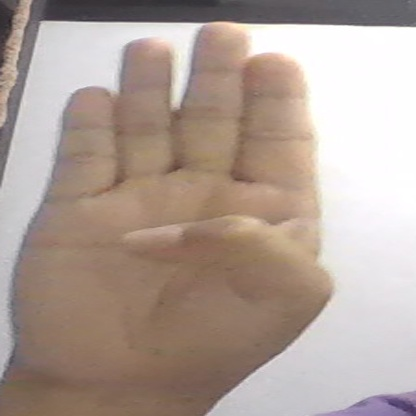B: (5, 23, 334, 396)
